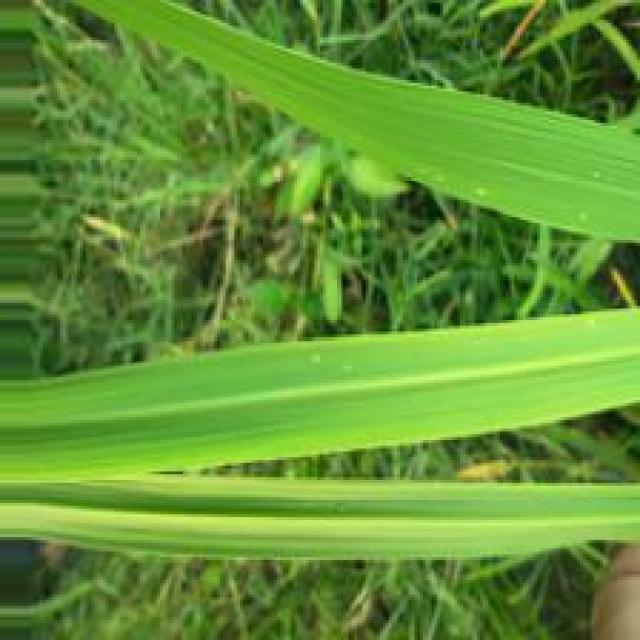HealthyLeaf: (72, 0, 640, 245), (0, 310, 640, 491)
